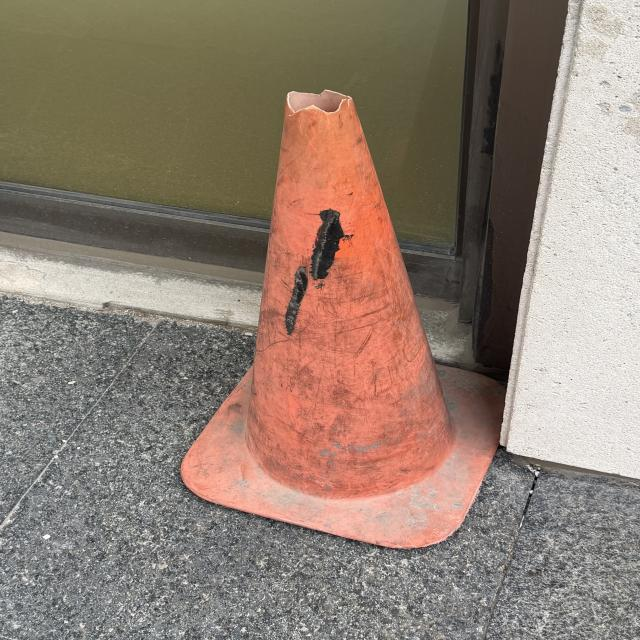Traffic Cone: (180, 88, 515, 549)
